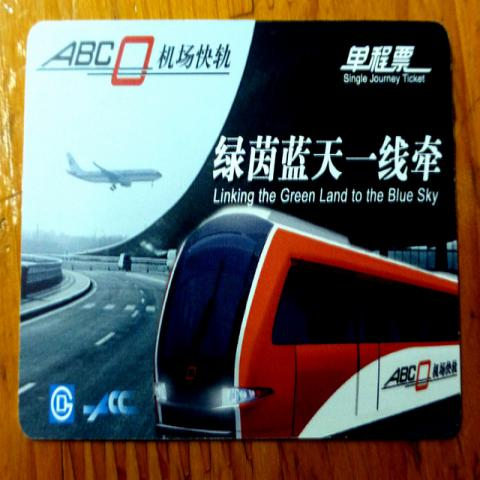car: (118, 253, 132, 271)
truck: (166, 249, 176, 269)
